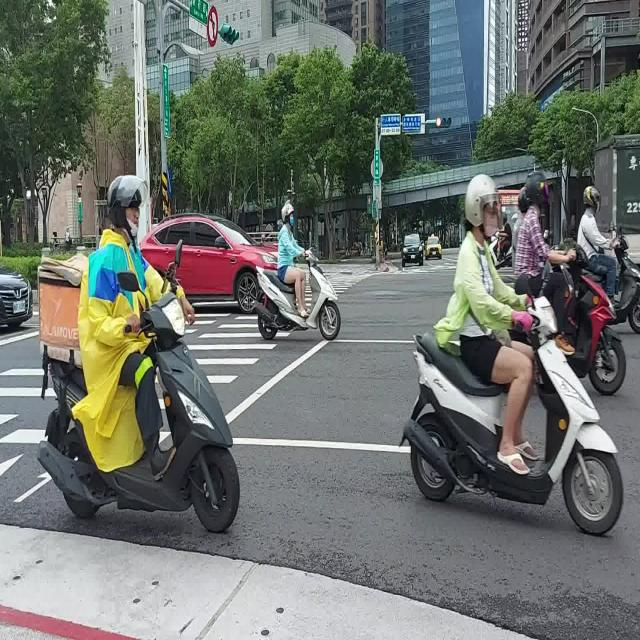car: (140, 213, 278, 313), (0, 267, 32, 329), (401, 233, 424, 267), (425, 236, 441, 259)
crosswalk: (186, 313, 280, 383), (0, 365, 43, 427), (328, 273, 371, 297), (185, 312, 233, 333)
motocycle: (401, 296, 622, 533), (38, 291, 239, 531), (569, 247, 626, 396), (254, 249, 340, 340), (614, 229, 640, 333), (490, 231, 513, 269)
trunk: (595, 133, 640, 262)
